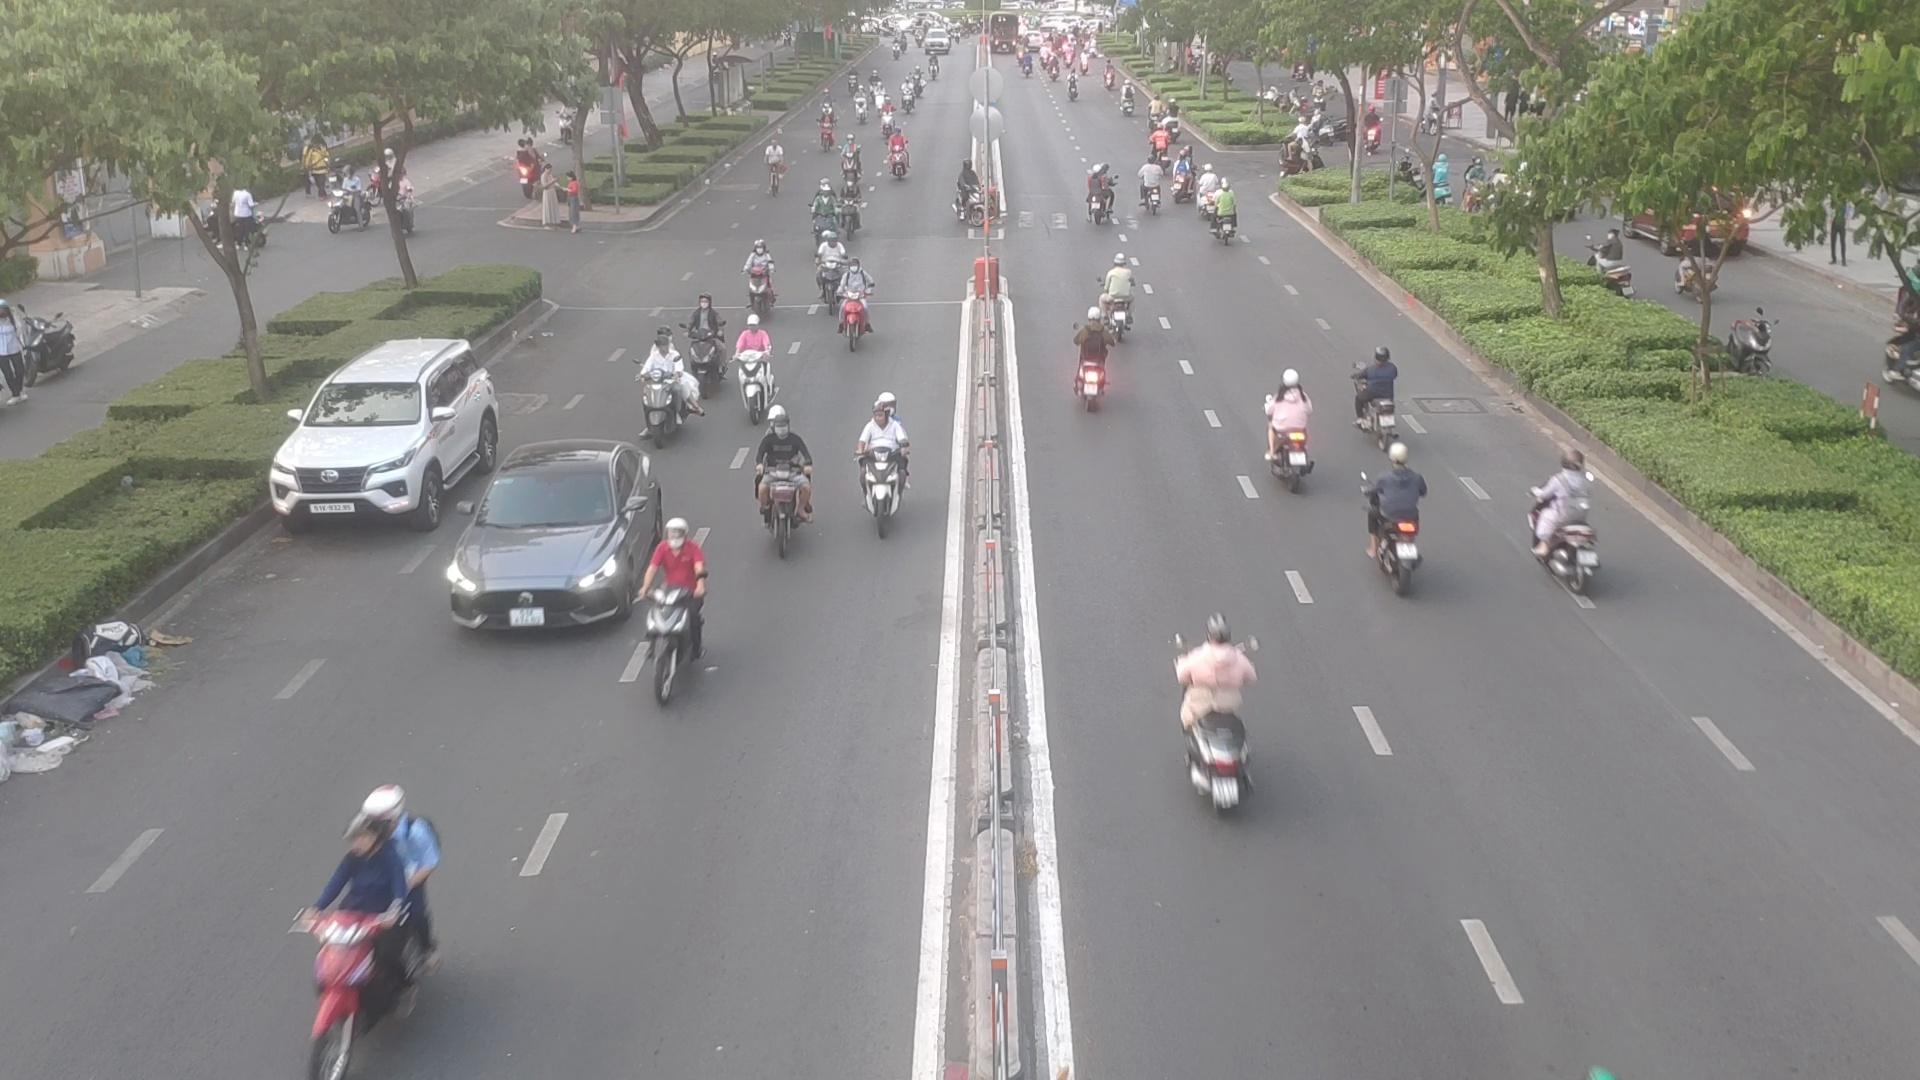car: (274, 334, 514, 525), (444, 443, 676, 638)
motorbike: (282, 791, 442, 1080), (1179, 621, 1273, 807), (636, 520, 719, 703), (1527, 456, 1609, 592), (740, 418, 815, 562), (1366, 462, 1439, 593), (852, 401, 913, 531), (1258, 372, 1317, 483), (1064, 306, 1120, 410), (636, 347, 698, 439), (676, 299, 735, 390), (1348, 349, 1400, 442), (1084, 264, 1142, 342), (829, 261, 880, 349), (738, 318, 775, 418), (736, 243, 779, 309), (812, 227, 843, 320), (1077, 165, 1120, 232), (1209, 183, 1250, 244), (949, 166, 984, 229), (808, 179, 837, 247), (1138, 160, 1164, 225), (880, 131, 913, 182), (1191, 165, 1217, 220), (840, 178, 866, 229), (1174, 146, 1192, 207), (843, 135, 860, 185), (815, 117, 837, 156), (880, 105, 894, 145)
